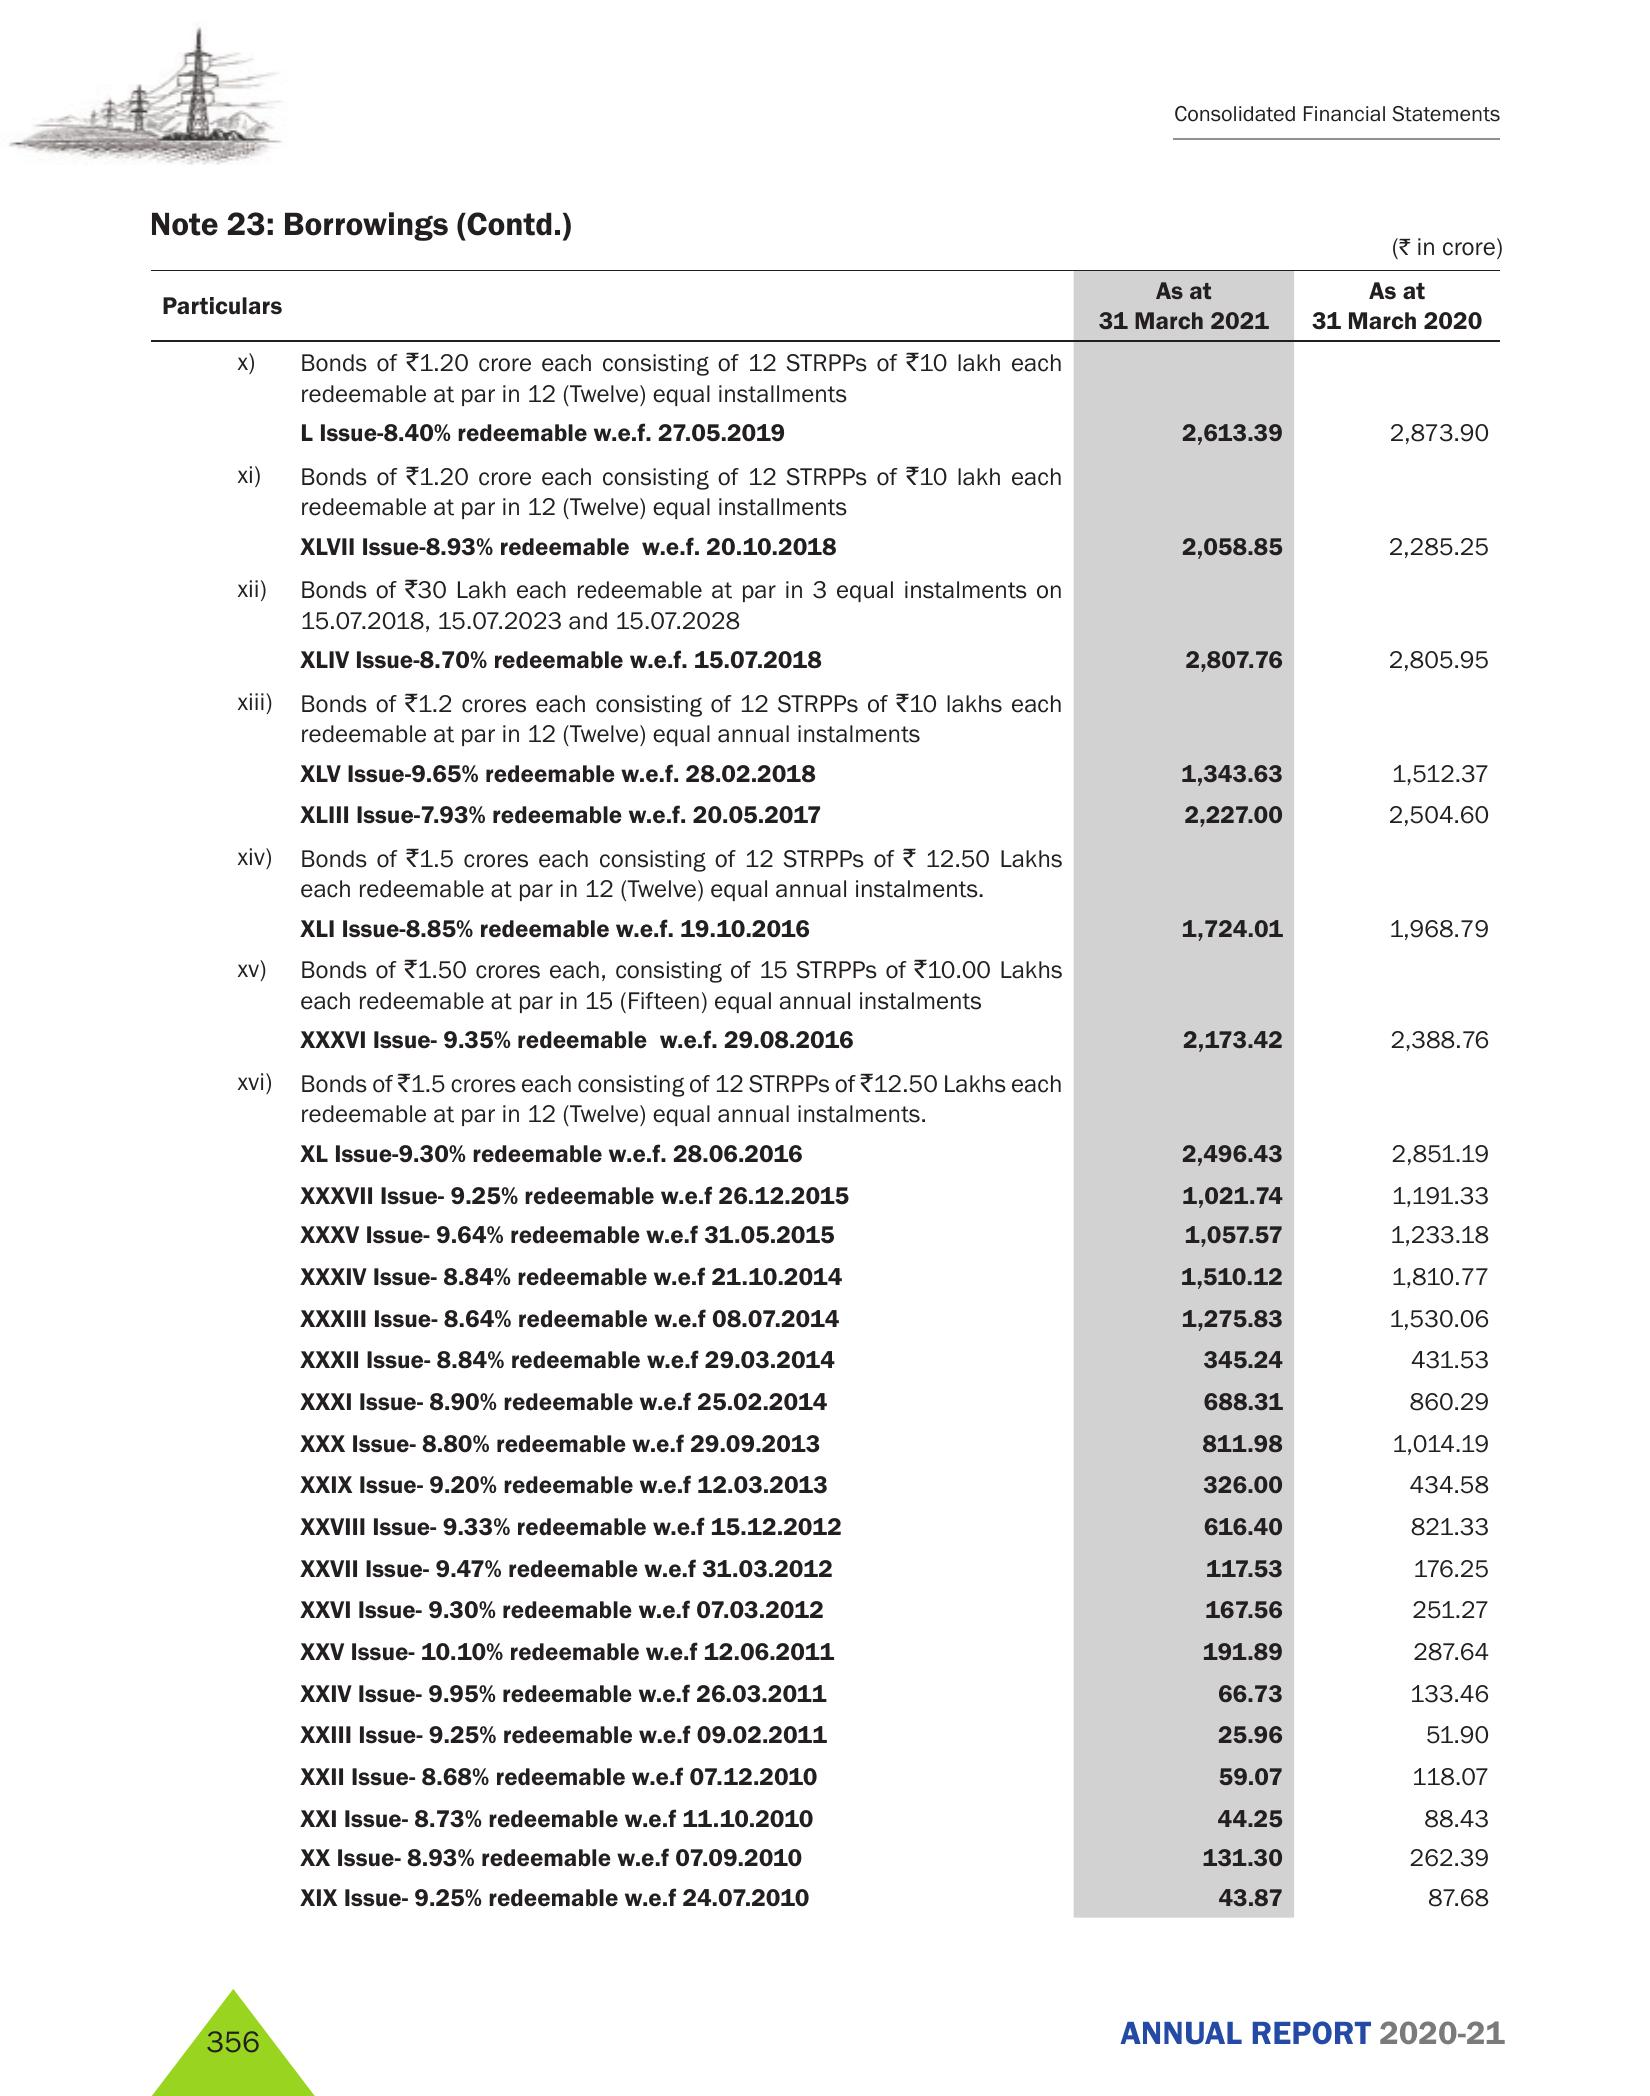Footer: (0, 1956, 1650, 2096)
Header: (0, 0, 1650, 175)
Table: (134, 271, 1539, 1938)
